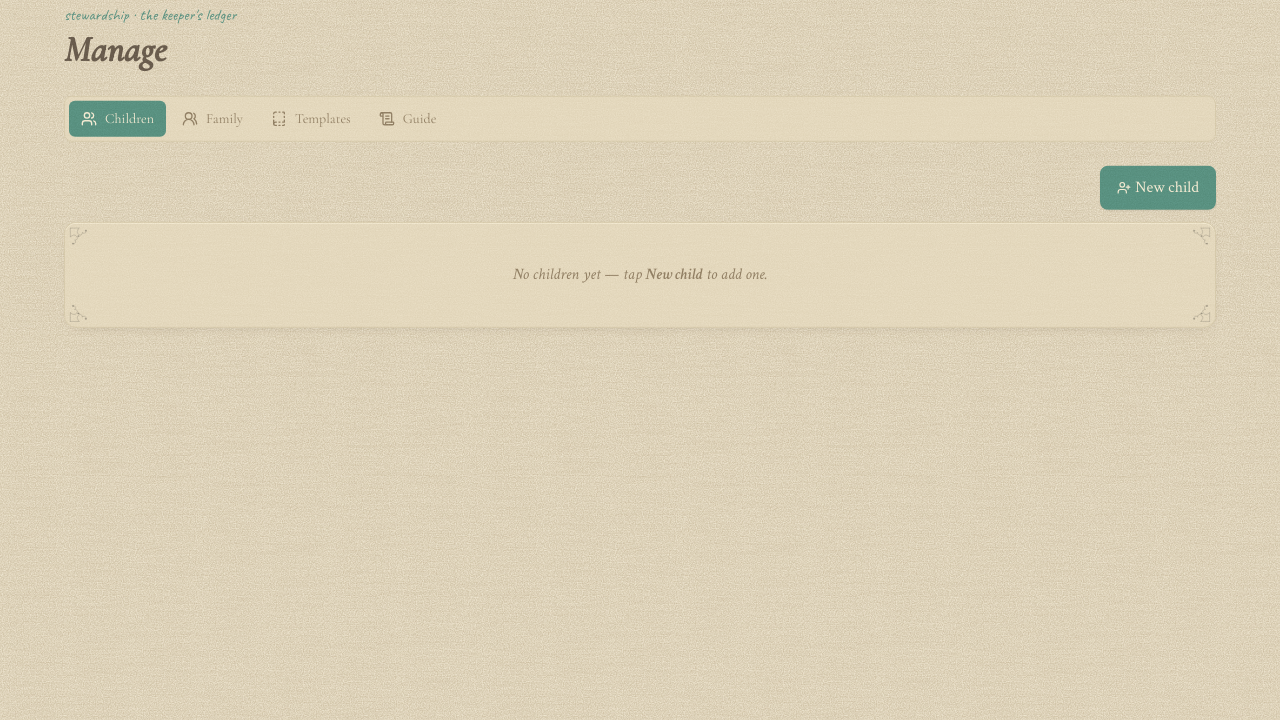
Scenario: Manage › surfaces a failed template delete instead of swallowing it
Click the tab "Templates".
click(311, 119)  # box top-left (259, 101), bottom-right (363, 137)
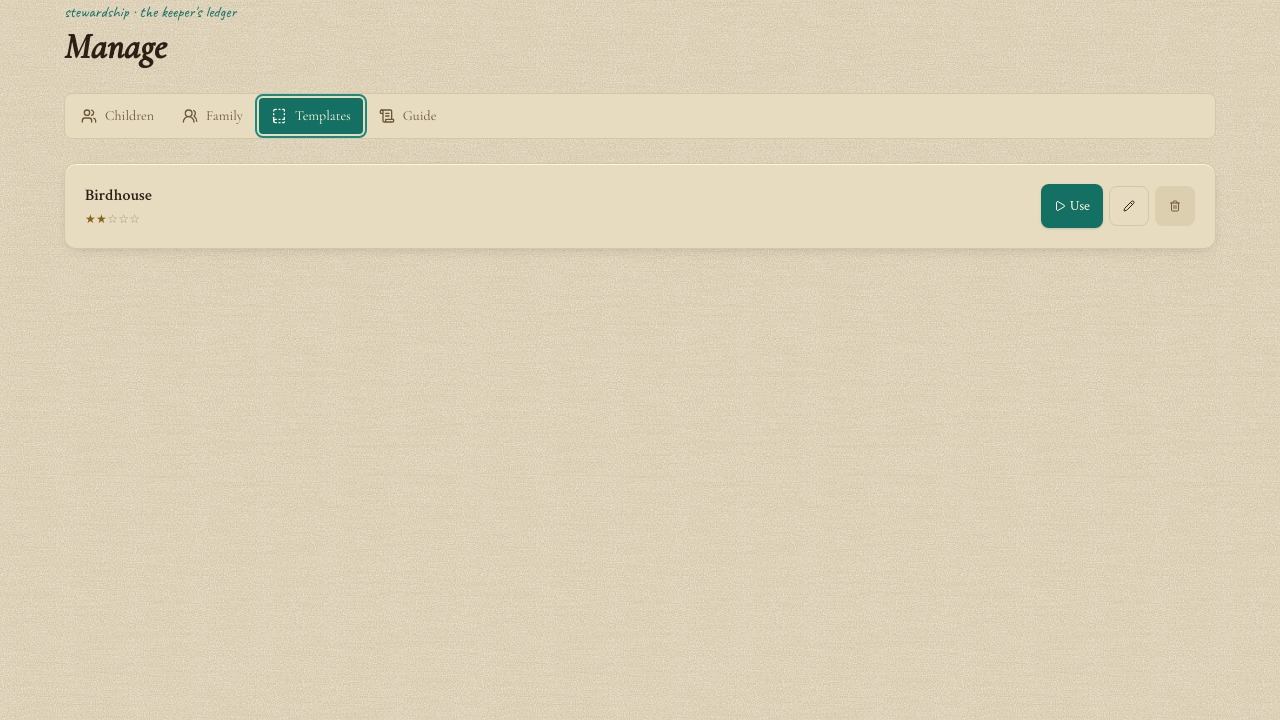
Click the button named "delete template".
click(1175, 206)  # box top-left (1155, 186), bottom-right (1195, 226)
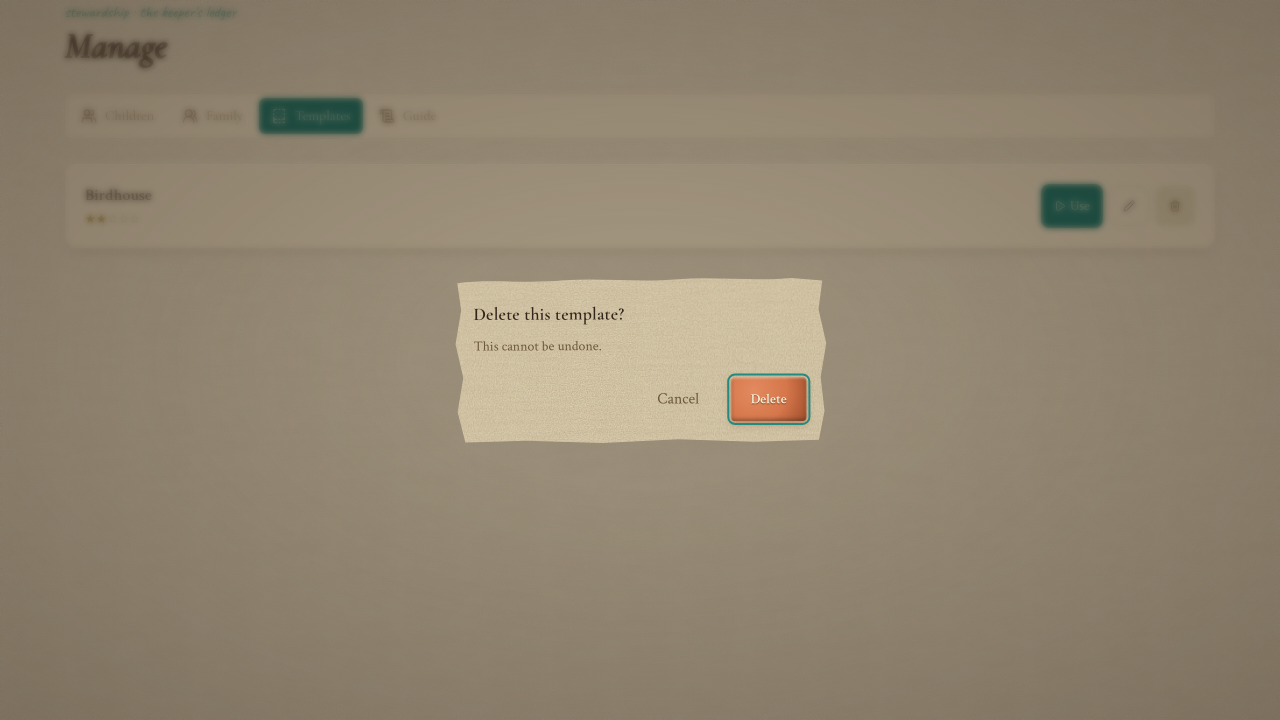
Click the button "Delete".
click(769, 399)  # box top-left (731, 377), bottom-right (806, 420)
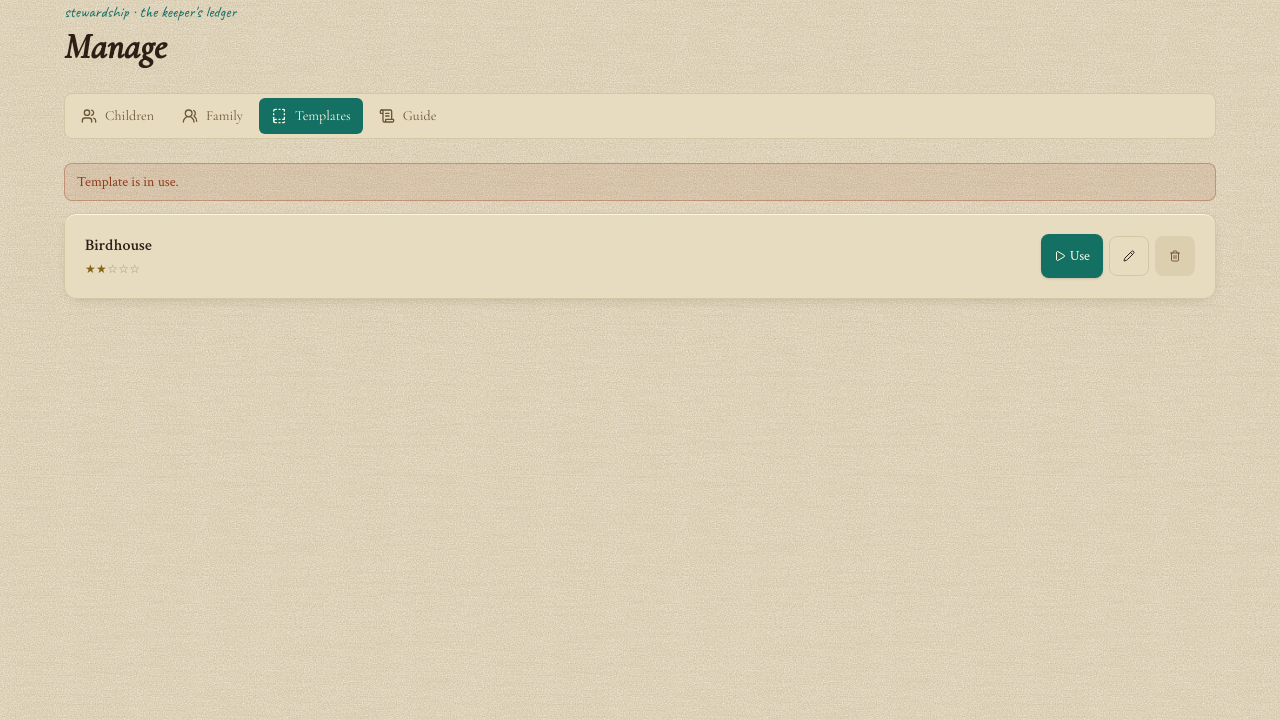
expect the text "Birdhouse" is shown: met, box top-left (85, 234), bottom-right (152, 258)
expect the text "Template is in use." is shown: met, box top-left (77, 173), bottom-right (179, 191)
